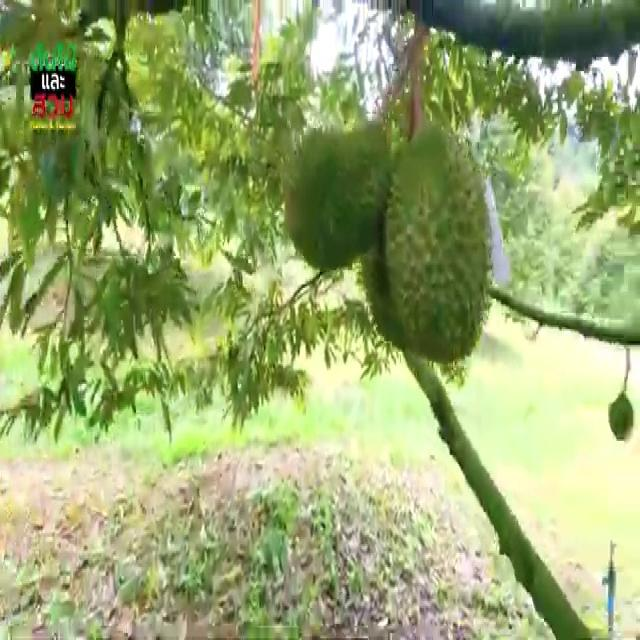durian: (382, 118, 498, 366), (284, 119, 396, 275), (605, 388, 637, 445)
